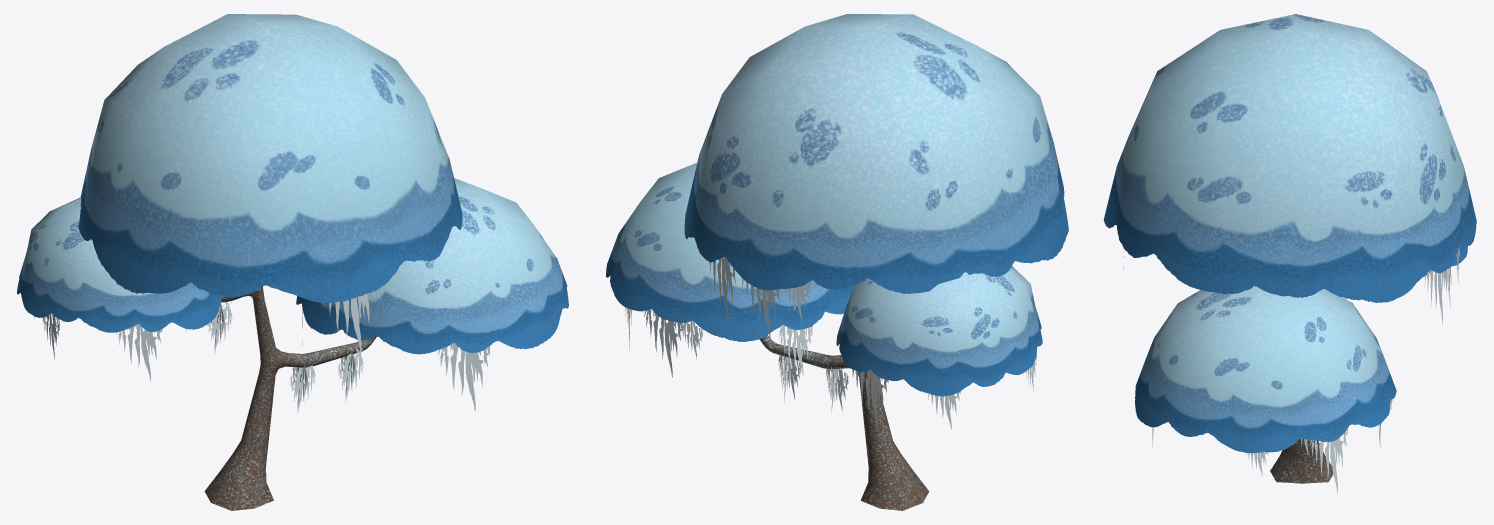
The model's file is IceCrystalsTree_01.fbx.
The picture shows the model from 3 angles, left to right: view 1: azimuth 30°, elevation 25°; view 2: azimuth 150°, elevation 25°; view 3: azimuth 270°, elevation 25°; orthographic projection. The views are drawn at different scales.
Visible parts, largest first — view 1: Cube.030; view 2: Cube.030; view 3: Cube.030.
Part boxes in pixels (left/top/right/bottom): Cube.030: left=17, top=14, right=568, bottom=510; Cube.030: left=606, top=14, right=1068, bottom=510; Cube.030: left=1103, top=14, right=1476, bottom=493.
Bounding box in the file's own units: 1204 × 1141 × 866.
